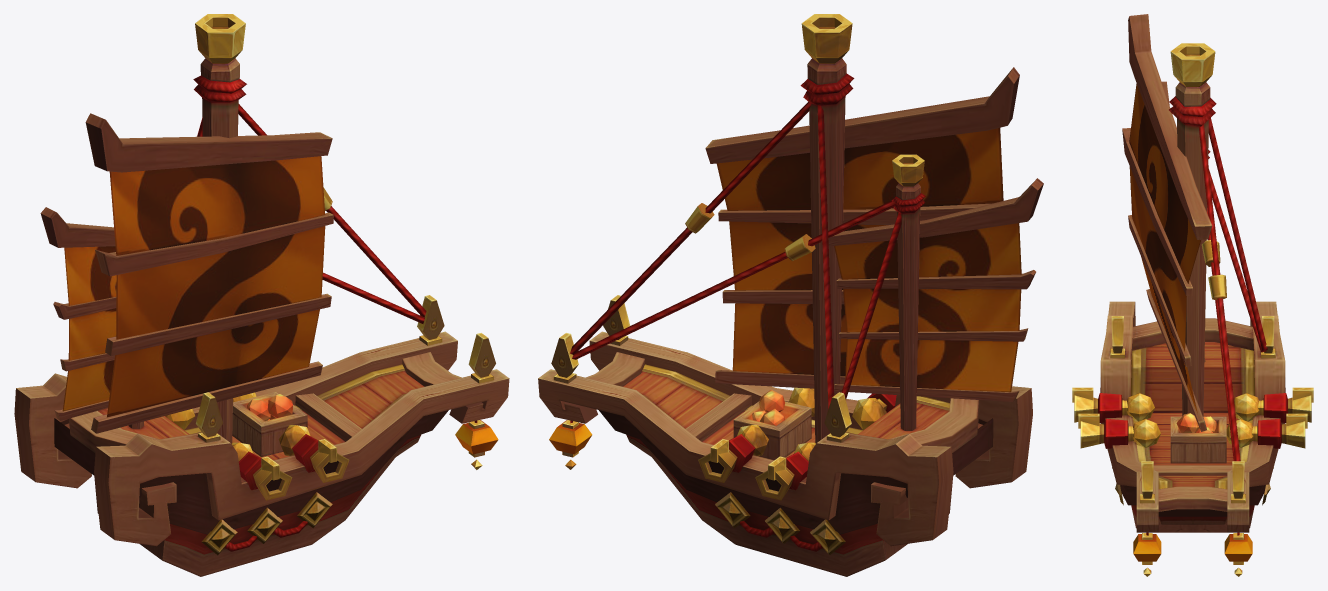
File: mod_zhongguochuan_01_5.FBX
3 views of the same model, side by side, from view 1: azimuth 30°, elevation 25°; view 2: azimuth 150°, elevation 25°; view 3: azimuth 270°, elevation 25° (orthographic). The views are drawn at different scales.
Visible parts, largest first — view 1: mod_zhongguochuan_01_5; view 2: mod_zhongguochuan_01_5; view 3: mod_zhongguochuan_01_5.
Part boxes in pixels (<box>): mod_zhongguochuan_01_5: <box>14,14,509,576</box>; mod_zhongguochuan_01_5: <box>538,14,1043,576</box>; mod_zhongguochuan_01_5: <box>1072,14,1313,576</box>.
Bounding box in the file's own units: 513 × 555 × 269.
Materials: 1 (1 with a texture image).
